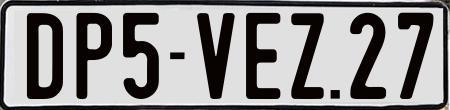2: (347, 13, 384, 103)
5: (121, 13, 161, 100)
7: (397, 12, 437, 101)
D: (26, 13, 67, 99)
E: (244, 10, 279, 100)
P: (73, 13, 110, 104)
V: (195, 11, 234, 99)
Z: (289, 11, 328, 100)
